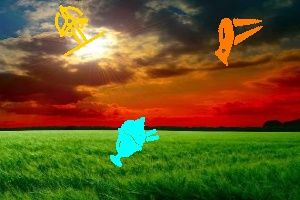发送两激光: (215, 16, 261, 66)
小风扇: (54, 4, 105, 57)
杯子冰淇淋: (111, 117, 158, 165)
